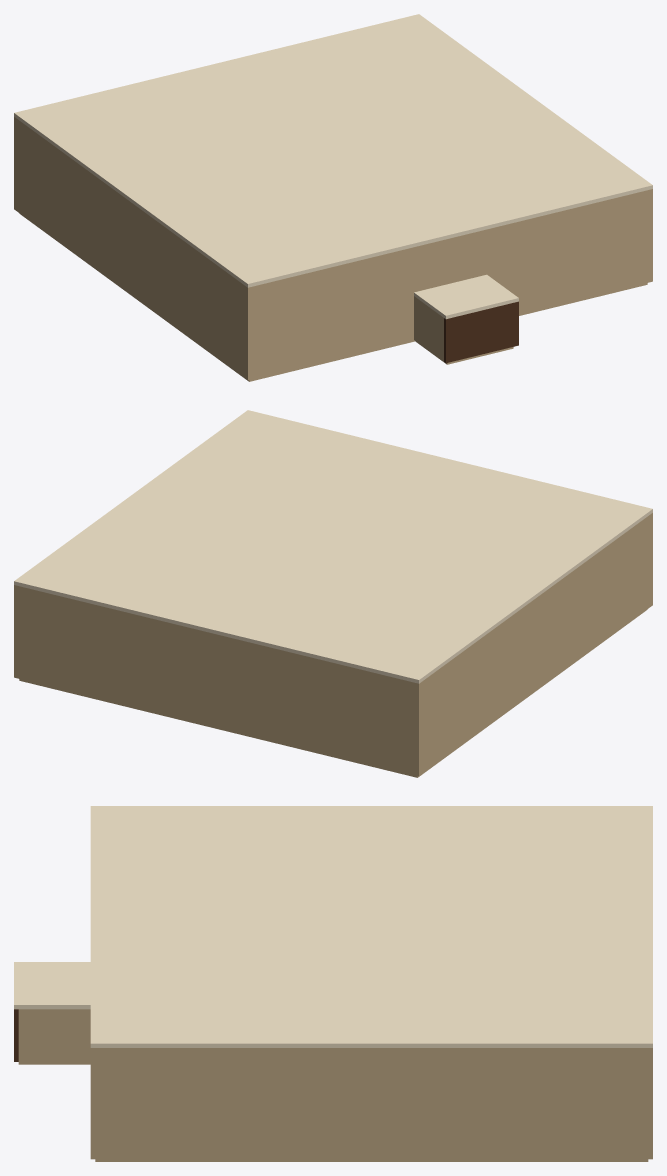
File: hall_264.glb
The picture shows the model from 3 angles, top to bottom: view 1: azimuth 30°, elevation 25°; view 2: azimuth 150°, elevation 25°; view 3: azimuth 270°, elevation 25°; orthographic projection. The views are drawn at different scales.
Visible parts, largest first — view 1: hall_264 ceiling, hall_264 wall, hall_264 wood, hall_264 floor; view 2: hall_264 ceiling, hall_264 wall, hall_264 floor; view 3: hall_264 ceiling, hall_264 wall, hall_264 floor.
Part boxes in pixels (<box>): hall_264 ceiling: <box>14,14,652,319</box>; hall_264 wall: <box>14,117,652,380</box>; hall_264 wood: <box>444,301,518,363</box>; hall_264 floor: <box>19,213,647,381</box>; hall_264 ceiling: <box>14,410,652,683</box>; hall_264 wall: <box>14,513,652,776</box>; hall_264 floor: <box>19,609,647,777</box>; hall_264 ceiling: <box>14,806,652,1047</box>; hall_264 wall: <box>18,1009,652,1159</box>; hall_264 floor: <box>18,1062,648,1161</box>.
Size of what is drawn, in the model's own units: 36.6 by 8.64 by 41.6.
